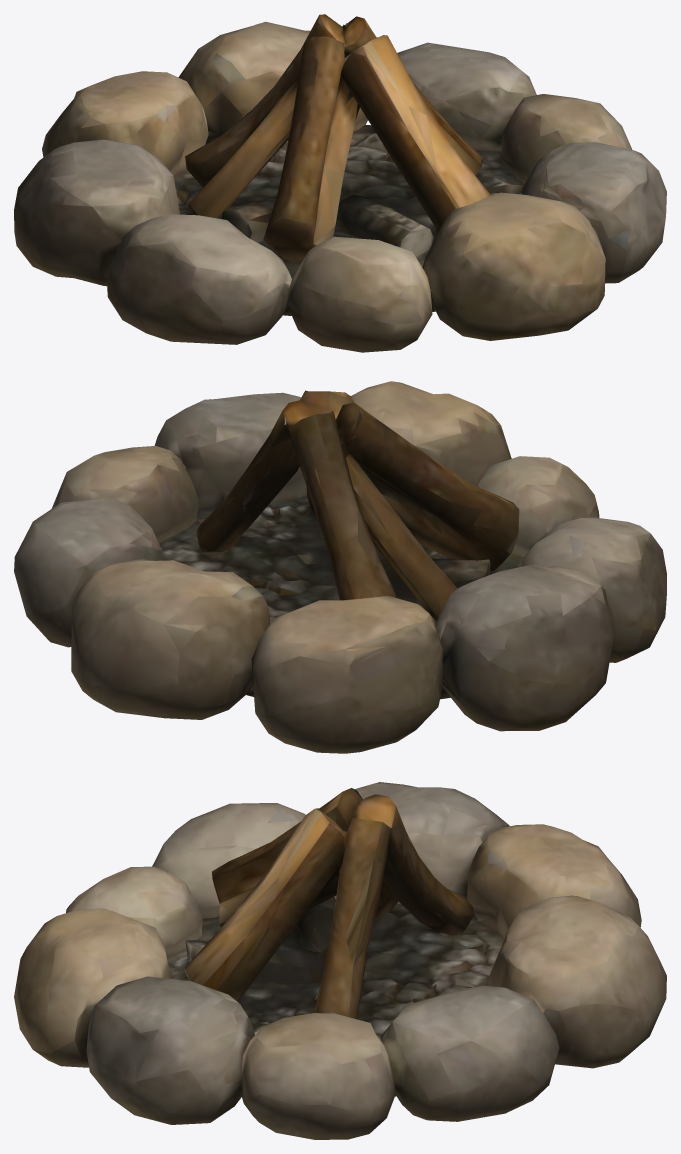
File: campfire.glb
3 views of the same model, one above another, from view 1: azimuth 30°, elevation 25°; view 2: azimuth 150°, elevation 25°; view 3: azimuth 270°, elevation 25° (orthographic). The views are drawn at different scales.
Parts seen in each view (by area): view 1: campfire; view 2: campfire; view 3: campfire.
Boxes of the visible parts, box(x1,y1,x2,y2) form: campfire: box(14, 14, 666, 352); campfire: box(14, 381, 666, 753); campfire: box(14, 782, 666, 1139).
Size of the model in its own units: 98.15 by 38.11 by 97.7.
Materials: 1 (1 with a texture image).
